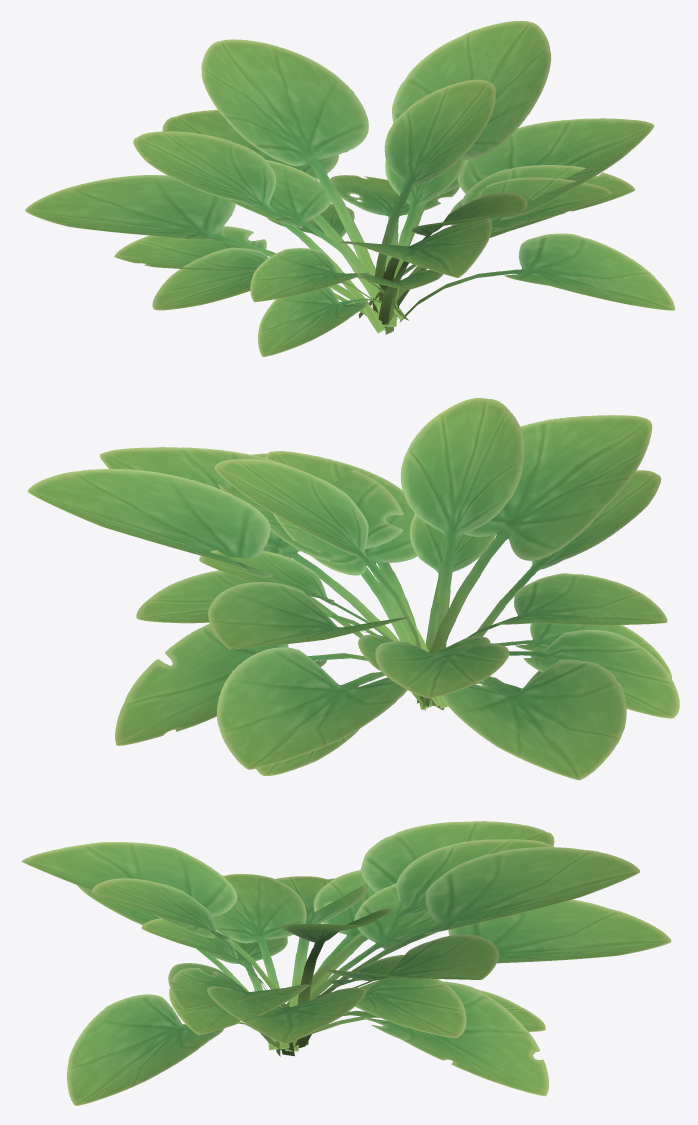
The model's file is earPlant_boq_scaled.fbx.
3 views of the same model, one above another, from view 1: azimuth 30°, elevation 25°; view 2: azimuth 150°, elevation 25°; view 3: azimuth 270°, elevation 25° (orthographic). The views are drawn at different scales.
Visible parts, largest first — view 1: earPlant_boq1, earPlant_boq4, earPlant_boq5, earPlant_boq3, earPlant_boq2; view 2: earPlant_boq1, earPlant_boq4, earPlant_boq3, earPlant_boq2, earPlant_boq5; view 3: earPlant_boq1, earPlant_boq5, earPlant_boq4, earPlant_boq2, earPlant_boq3.
Boxes of the visible parts, left/top/right/bottom form: earPlant_boq1: left=114, top=79, right=675, bottom=356; earPlant_boq4: left=357, top=20, right=635, bottom=334; earPlant_boq5: left=201, top=39, right=466, bottom=314; earPlant_boq3: left=25, top=175, right=397, bottom=323; earPlant_boq2: left=224, top=158, right=611, bottom=319; earPlant_boq1: left=99, top=415, right=672, bottom=769; earPlant_boq4: left=27, top=397, right=661, bottom=710; earPlant_boq3: left=256, top=629, right=679, bottom=780; earPlant_boq2: left=199, top=451, right=667, bottom=708; earPlant_boq5: left=136, top=570, right=409, bottom=649; earPlant_boq1: left=21, top=839, right=671, bottom=1105; earPlant_boq5: left=321, top=847, right=639, bottom=1037; earPlant_boq4: left=77, top=878, right=499, bottom=1056; earPlant_boq2: left=141, top=874, right=437, bottom=1049; earPlant_boq3: left=275, top=821, right=554, bottom=1051.
Bounding box in the file's own units: 250 × 88.56 × 259.
